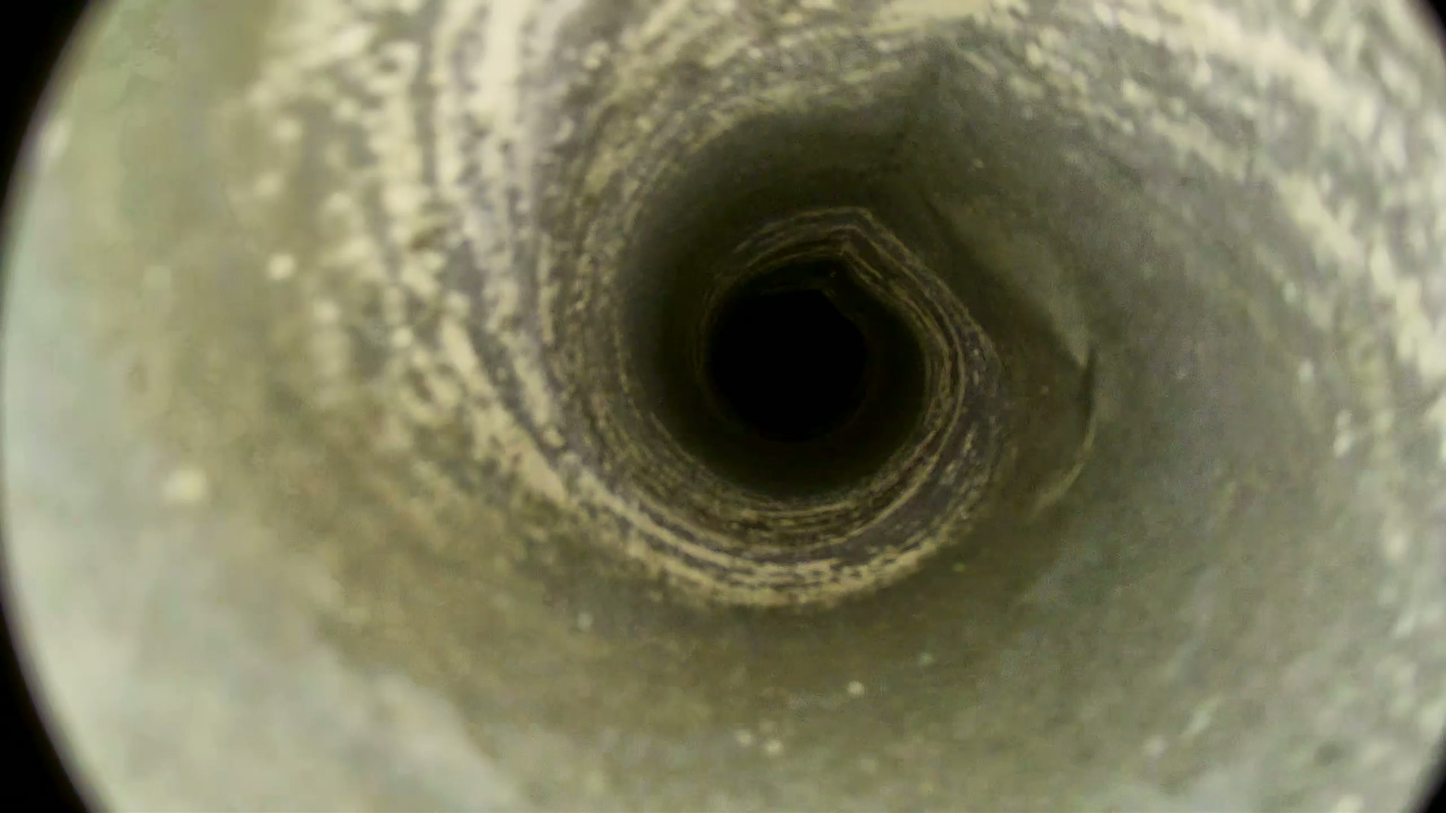hole: (715, 290, 866, 434)
